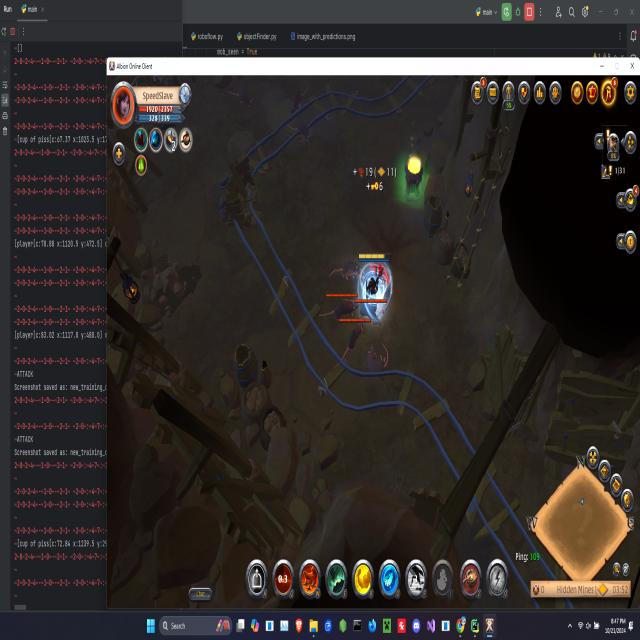fiber: (399, 147, 425, 202)
ore: (332, 315, 369, 370), (319, 286, 359, 319), (356, 289, 388, 329), (222, 86, 259, 112), (287, 83, 314, 117), (286, 120, 314, 147)
red: (355, 251, 395, 316)
